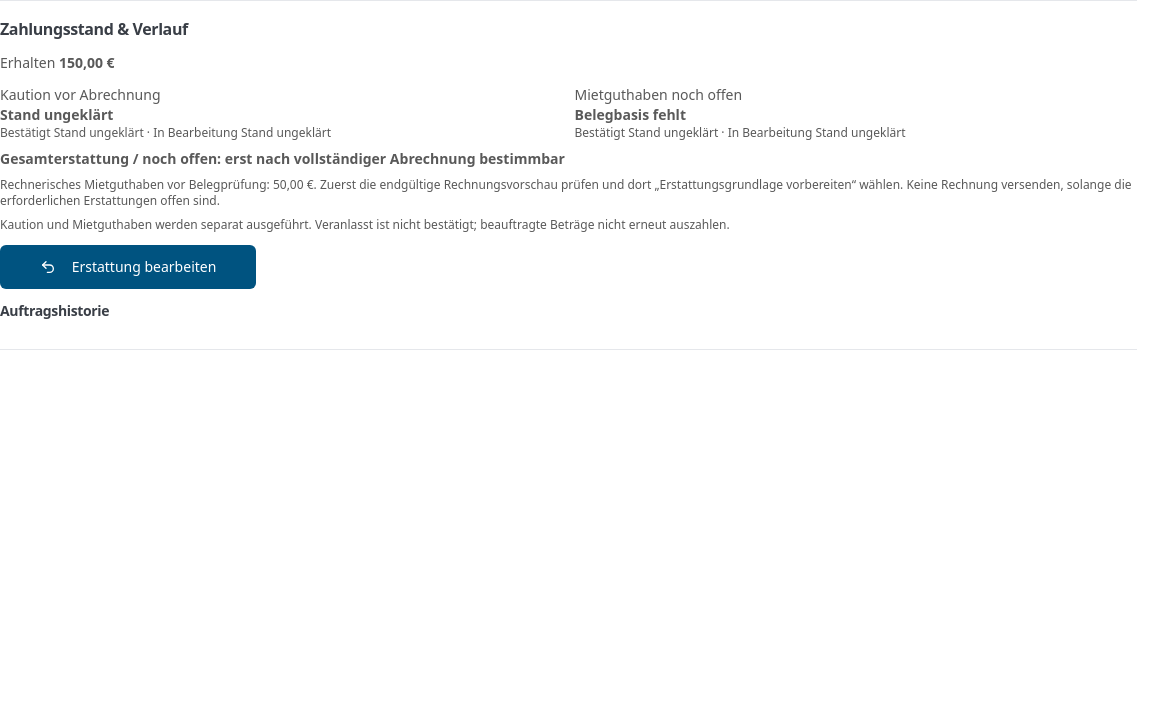
Test: cancelled bank order: creates a pending manual payout, no invoice preparation, no normal settlement editor
Later steps or results of the test are not shown.
Click the button "Erstattung bearbeiten".
click(128, 267)  # box left=0, top=245, right=256, bottom=289
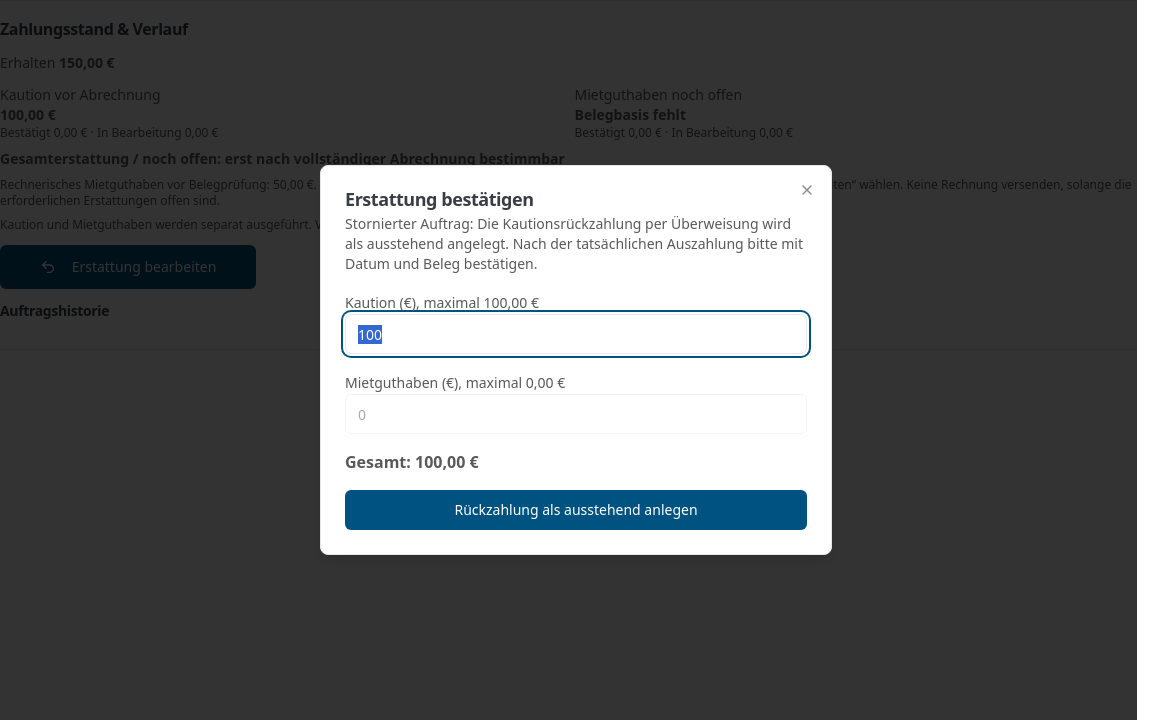
Check: the text "als ausstehend angelegt" is shown, box left=345, top=214, right=803, bottom=273
Check: the field labelled "Mietguthaben (€), maximal 0,00 €" is disabled, box left=345, top=394, right=807, bottom=434
